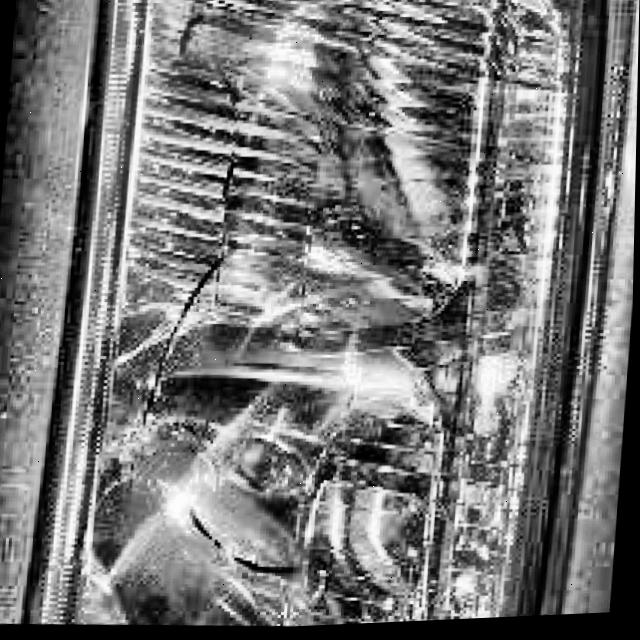head_lamp: (59, 0, 558, 637)
